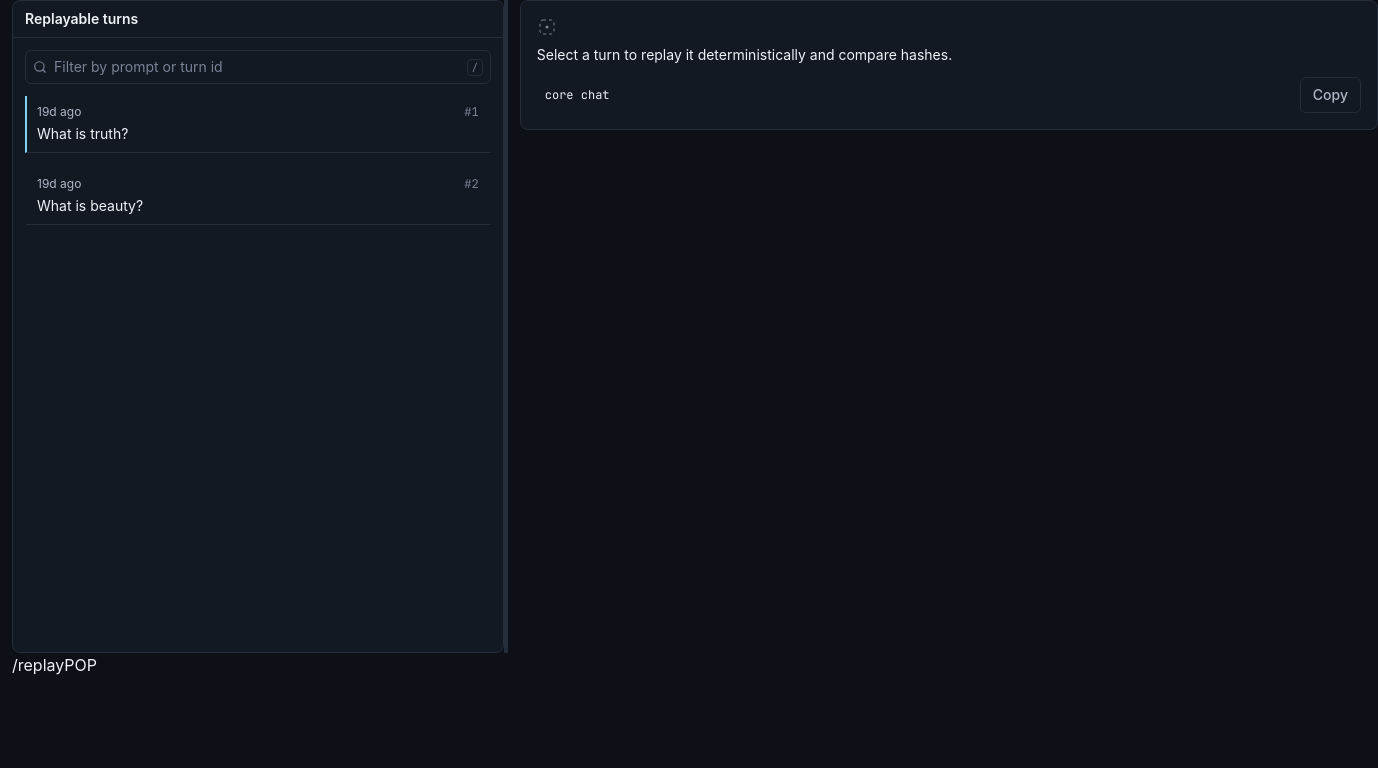
it: ReplayRoute › selecting a turn writes /replay/<turnId> with replace
The width and height of the screenshot is (1378, 768).
Click the text "What is beauty?" at (90, 206), box [37,196,143,216]
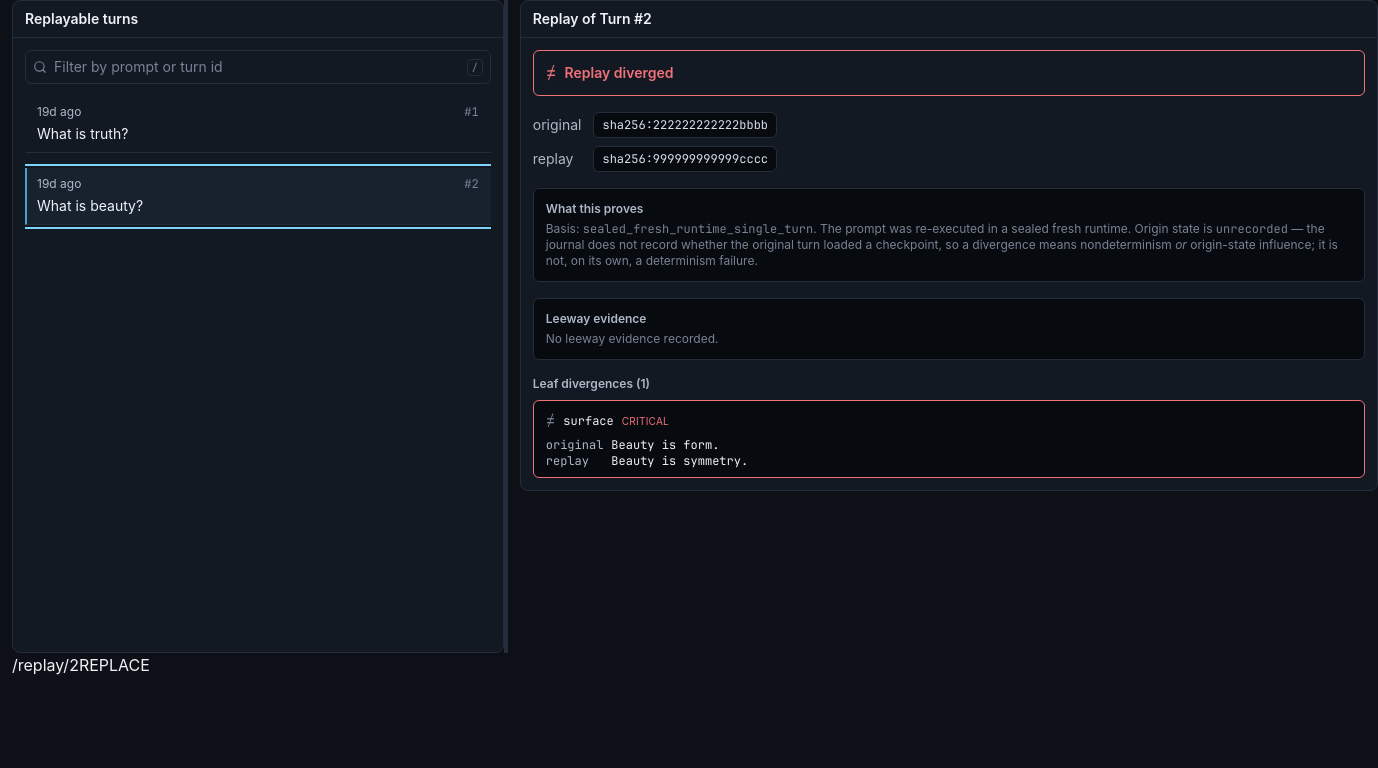
Check: the text with test id "location" reads "/replay/2", box [12,655,79,675]
Check: the text with test id "nav-type" reads "REPLACE", box [79,655,150,675]
Check: the text "Replay diverged" is shown, box [565,63,674,83]
